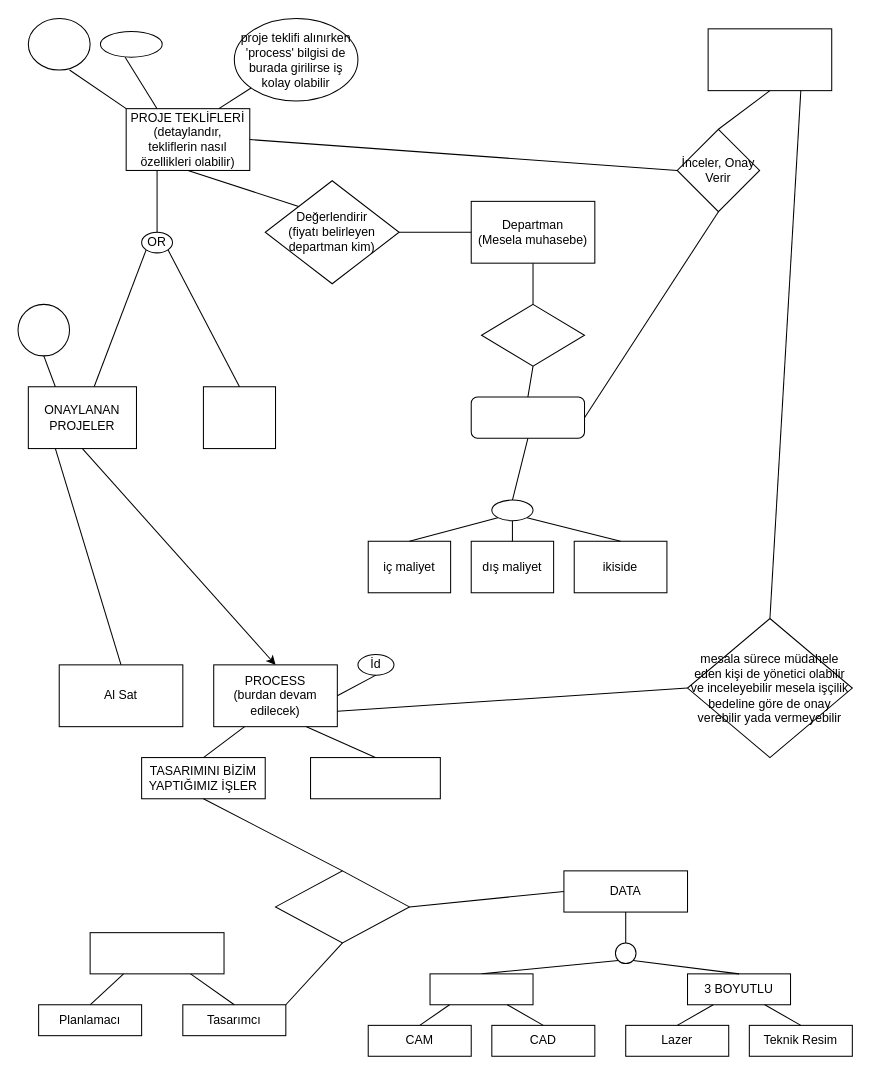
Image size: 870x1074. Some labels were removed from this diagram. The shapes that lost their labels are listed below. From the top down, each one's box as (x1, y1, x2, y2) in pixels, then its label:
(27, 18, 90, 70): Id (teklif no)
(99, 30, 162, 57): Fiyat
(707, 28, 832, 91): Kim (Mesela yönetici/kurucu)
(17, 303, 70, 356): mesela makine id
(480, 303, 585, 366): Oluşturur (Kim)
(202, 386, 276, 449): ONAY BEKLEYEN YADA REDDEDLİDİ
(470, 396, 585, 438): MALİYET
(310, 757, 440, 799): TASARIMI DIŞARIDAN GELEN
(274, 870, 409, 943): Tasarımcı iş ve datayı inceler süreci oluşturur
(89, 932, 224, 974): Departmanlar
(429, 973, 533, 1005): 2 BOYUTLU
